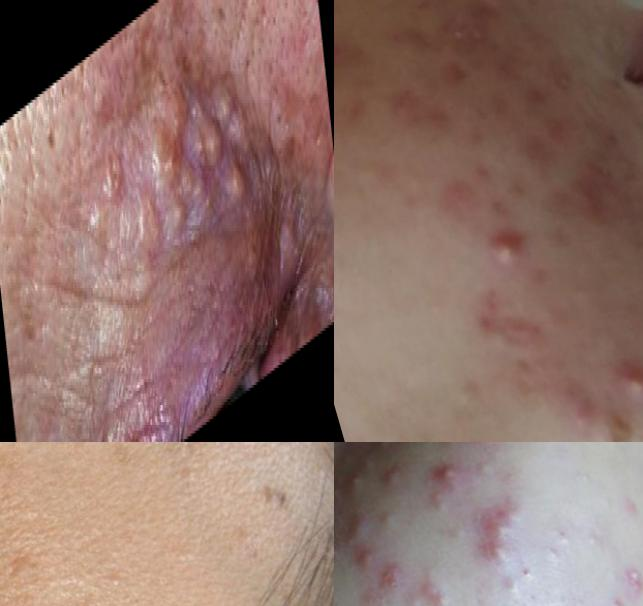acne_scars: (564, 168, 629, 227), (428, 162, 489, 221), (380, 80, 437, 127), (588, 398, 643, 443), (540, 110, 592, 157), (505, 79, 559, 124), (335, 31, 354, 83)
blackhead: (272, 70, 295, 152)
cystic: (472, 494, 531, 547), (335, 500, 380, 553)
flat_wart: (1, 538, 55, 602)
papular: (468, 284, 553, 371), (374, 559, 411, 596)
purulent: (468, 209, 544, 282), (605, 344, 643, 408), (350, 547, 387, 587), (480, 542, 517, 576), (418, 570, 450, 606), (436, 459, 463, 487)
sebo-crystan-conglo: (433, 1, 496, 51), (379, 559, 413, 596), (619, 556, 643, 597), (464, 443, 509, 451)
syringoma: (109, 35, 260, 323)
whitehead: (442, 360, 490, 417), (343, 469, 366, 492), (374, 443, 401, 453)
